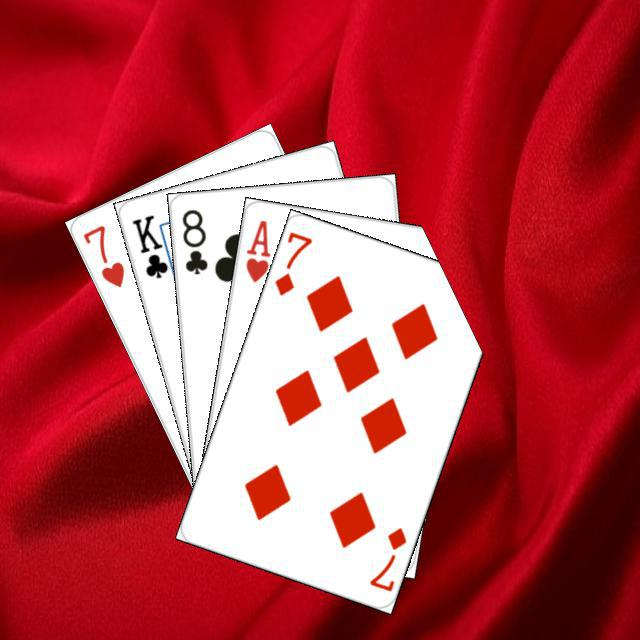7d: (269, 227, 314, 298), (364, 522, 409, 593)
7h: (77, 220, 127, 289)
8c: (177, 204, 210, 277)
Ah: (240, 215, 272, 284)
Kc: (126, 209, 179, 283)
